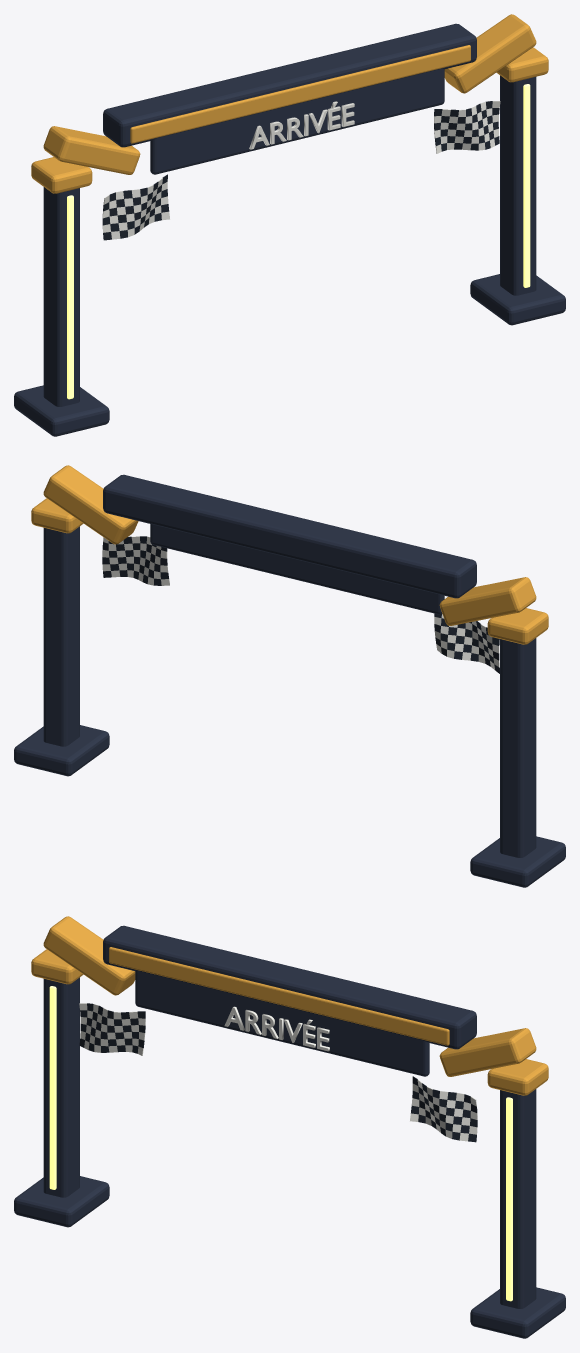
File: finish-gate.glb
3 views of the same model, one above another, from view 1: azimuth 30°, elevation 25°; view 2: azimuth 150°, elevation 25°; view 3: azimuth 330°, elevation 25° (orthographic).
Visible parts, largest first — view 1: Traverse, Panneau arrivee, Pilier.001, Pilier, Bandeau, Epaule arche.001, Epaule arche, Socle.001, Socle, Drapeau damier, Drapeau damier.001, Couronne (+4 smaller); view 2: Traverse, Pilier.001, Pilier, Panneau arrivee, Epaule arche.001, Epaule arche, Socle.001, Socle, Drapeau damier.001, Drapeau damier, Couronne, Couronne.001; view 3: Traverse, Panneau arrivee, Pilier, Pilier.001, Bandeau, Epaule arche, Epaule arche.001, Drapeau damier.001, Socle, Socle.001, Drapeau damier, Couronne.001 (+4 smaller).
Boxes of the visible parts, x1,y1,x2,y2 form: Traverse: (103,23,476,147); Panneau arrivee: (150,68,444,174); Pilier.001: (500,75,536,295); Pilier: (43,187,79,406); Bandeau: (130,45,470,143); Epaule arche.001: (444,14,536,93); Epaule arche: (43,126,140,174); Socle.001: (470,274,565,325); Socle: (14,385,109,436); Drapeau damier: (102,174,169,240); Drapeau damier.001: (434,101,500,153); Couronne: (31,157,92,193); Traverse: (103,474,476,598); Pilier.001: (43,526,79,746); Pilier: (500,638,536,857); Panneau arrivee: (150,524,444,614); Epaule arche.001: (43,465,138,544); Epaule arche: (439,577,536,625); Socle.001: (14,725,109,776); Socle: (470,836,565,887); Drapeau damier.001: (102,536,169,585); Drapeau damier: (434,613,499,673); Couronne: (487,608,548,644); Couronne.001: (31,498,83,533); Traverse: (103,925,476,1049); Panneau arrivee: (135,970,429,1076); Pilier: (43,977,79,1197); Pilier.001: (500,1089,536,1308); Bandeau: (109,947,449,1045); Epaule arche: (43,916,135,995); Epaule arche.001: (439,1028,536,1076); Drapeau damier.001: (410,1076,477,1142); Socle: (14,1176,109,1227); Socle.001: (470,1287,565,1338); Drapeau damier: (79,1003,145,1055); Couronne.001: (487,1059,548,1095).
Size of the model in its own units: 11.95 by 6.42 by 1.65.
